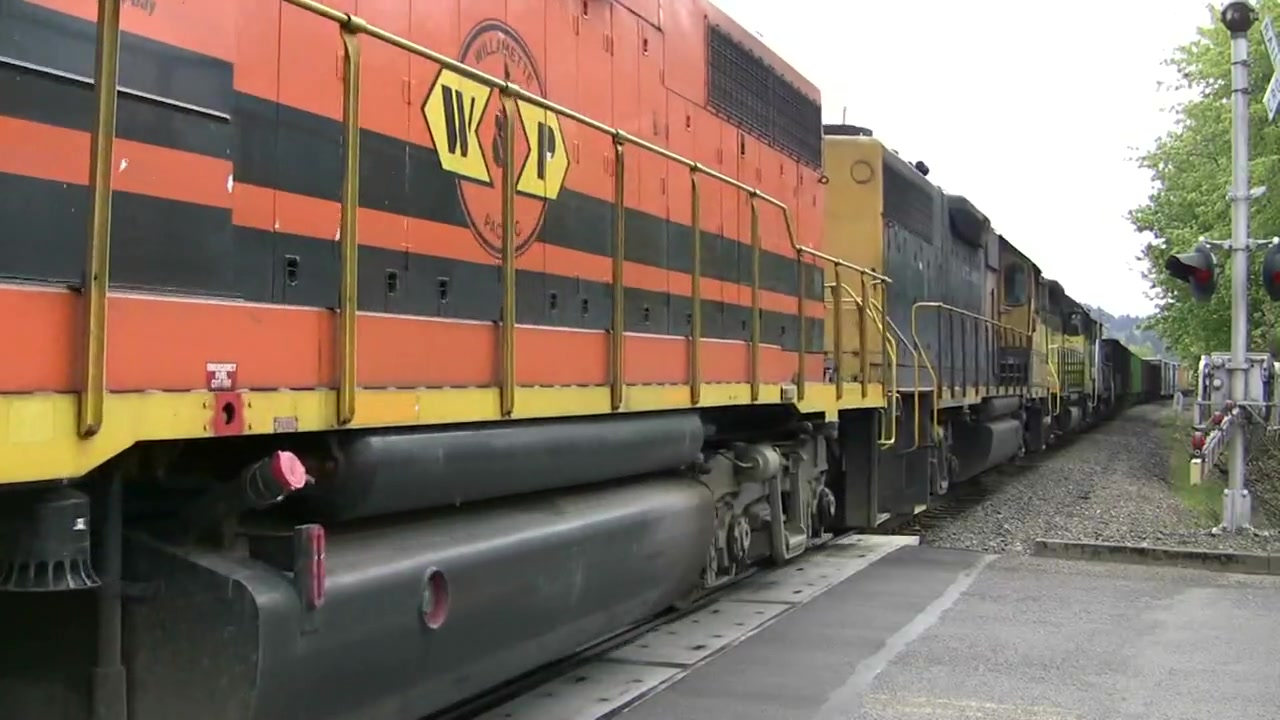train: (1, 1, 1185, 720)
